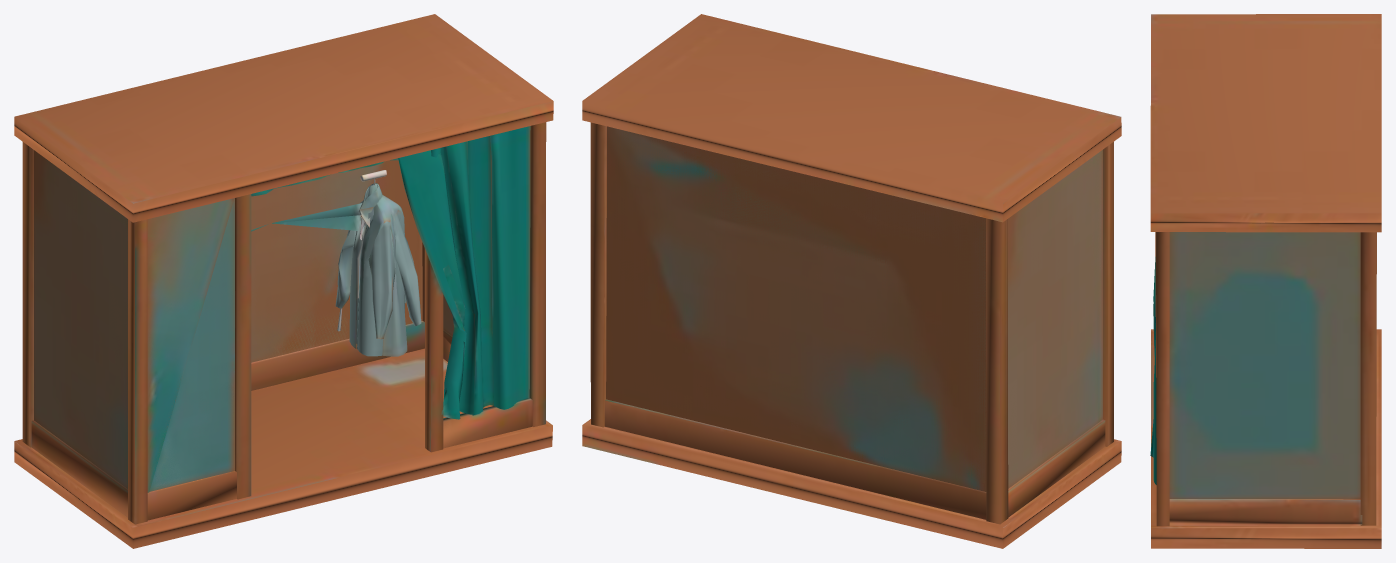
The model's file is fitting_room.glb.
The picture shows the model from 3 angles, left to right: view 1: azimuth 30°, elevation 25°; view 2: azimuth 150°, elevation 25°; view 3: azimuth 270°, elevation 25°; orthographic projection. The views are drawn at different scales.
Bounding box in the file's own units: 0.9575 × 0.7514 × 0.4688.
Materials: 1 (1 with a texture image).
